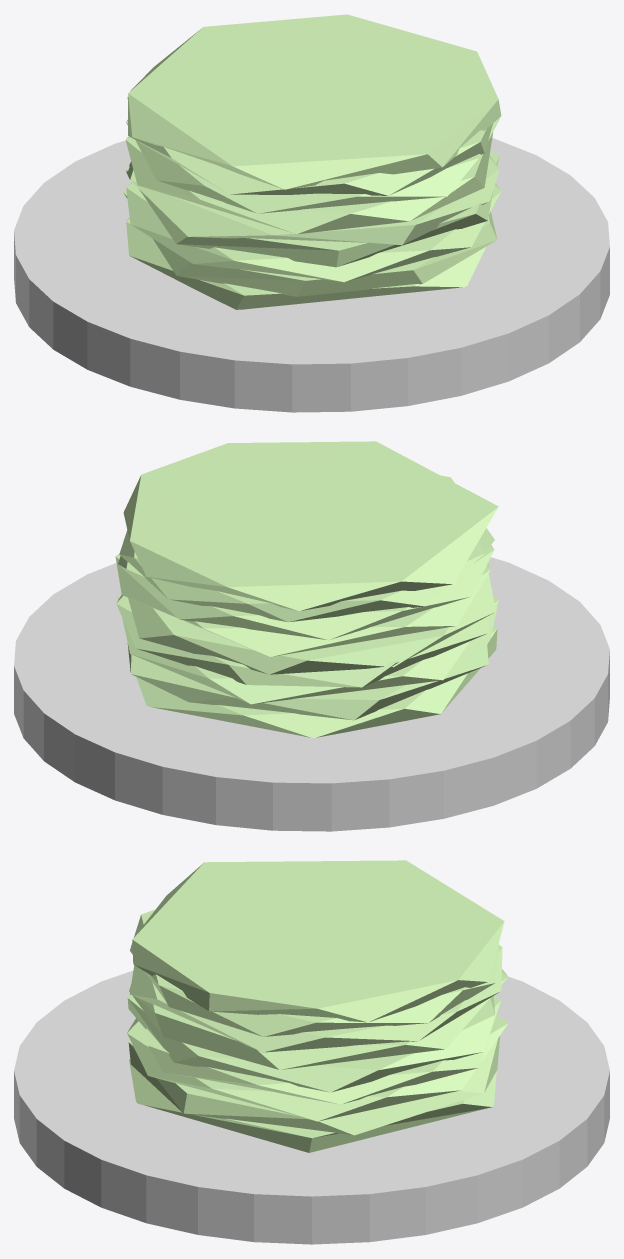
File: E_LettuceGenerator.fbx
3 renders of one model, top to bottom at view 1: azimuth 30°, elevation 25°; view 2: azimuth 150°, elevation 25°; view 3: azimuth 270°, elevation 25°, orthographic.
Parts seen in each view (by area): view 1: Cylinder.006, Cylinder; view 2: Cylinder.006, Cylinder; view 3: Cylinder.006, Cylinder.
Boxes of the visible parts, x1,y1,x2,y2 form: Cylinder.006: [123, 14, 501, 309]; Cylinder: [14, 138, 609, 412]; Cylinder.006: [115, 441, 498, 737]; Cylinder: [14, 557, 609, 831]; Cylinder.006: [127, 860, 508, 1152]; Cylinder: [14, 970, 609, 1244].
Size of the model in its own units: 22.5 by 7.98 by 22.5.
